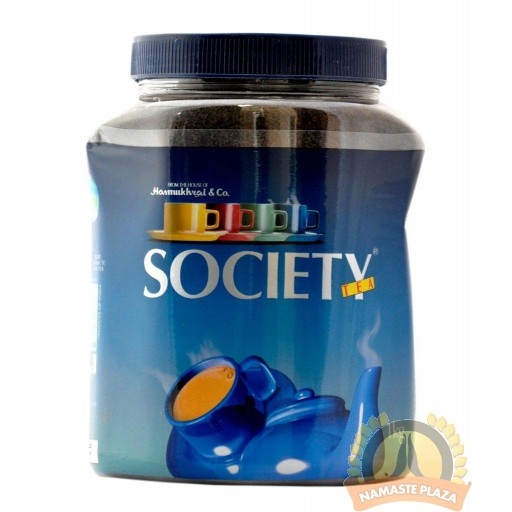society: (81, 114, 431, 487)
